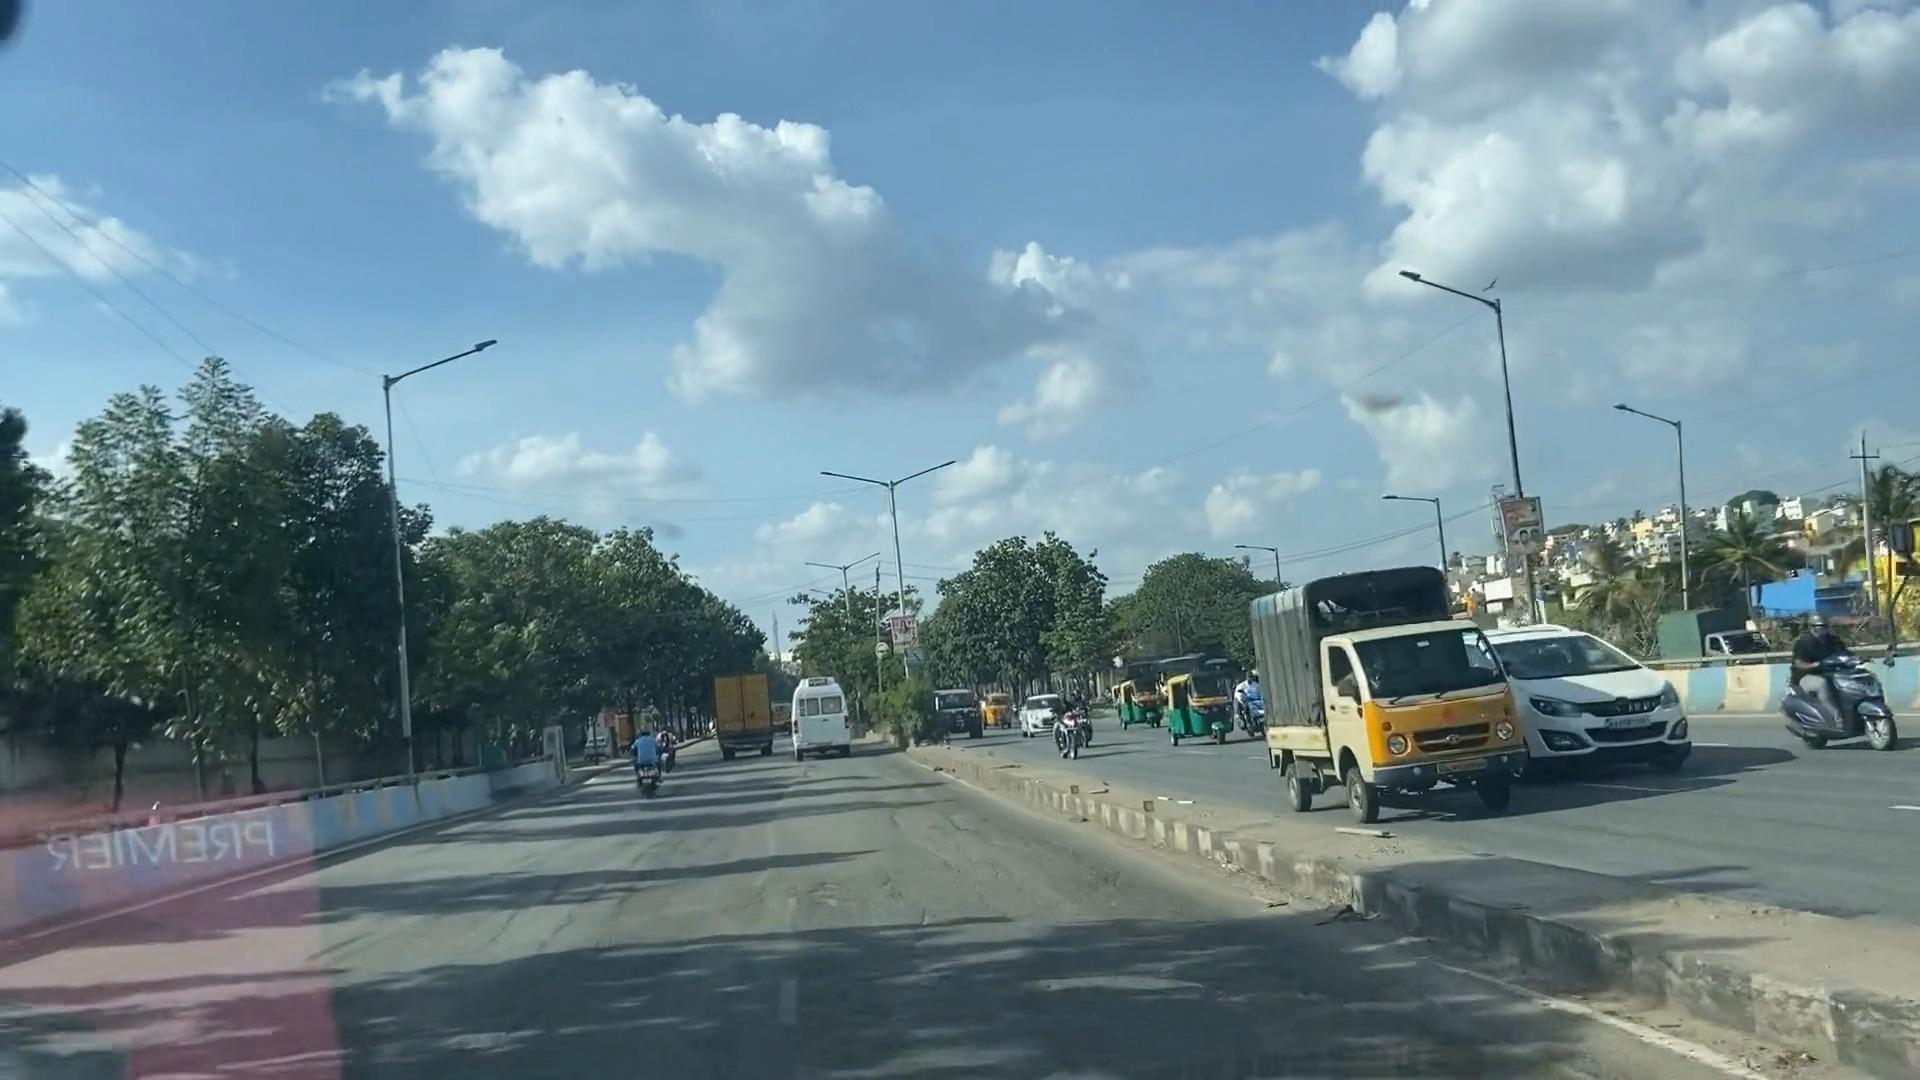HMV: (700, 670, 785, 773), (777, 661, 861, 758)
LMV: (621, 733, 671, 793)
RoadDamages: (1052, 914, 1366, 1080), (721, 822, 973, 997), (1002, 824, 1134, 965)
